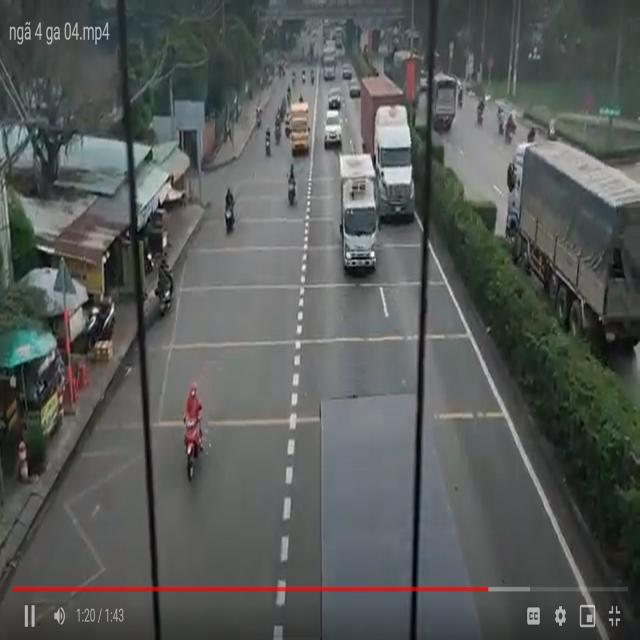car: (328, 109, 341, 152)
motor: (182, 422, 205, 494), (282, 174, 300, 211), (225, 204, 234, 235)
truck: (512, 133, 636, 363), (365, 80, 416, 216), (338, 153, 380, 285), (289, 100, 305, 166)
